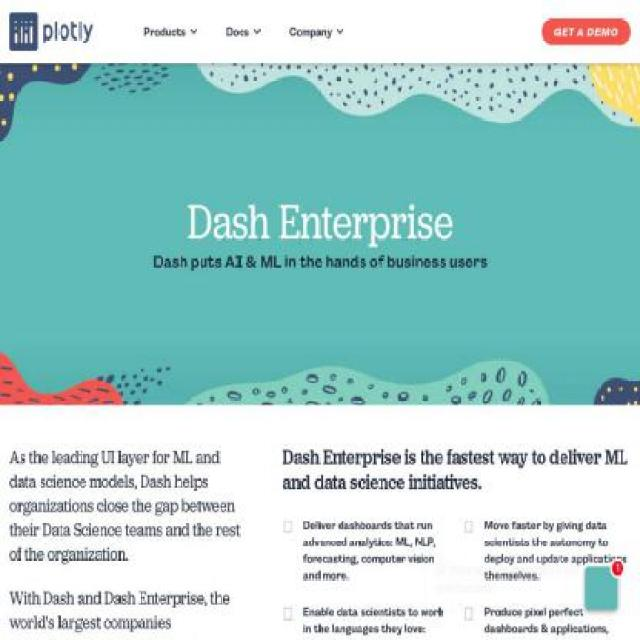button: (9, 12, 102, 51), (540, 17, 632, 46)
